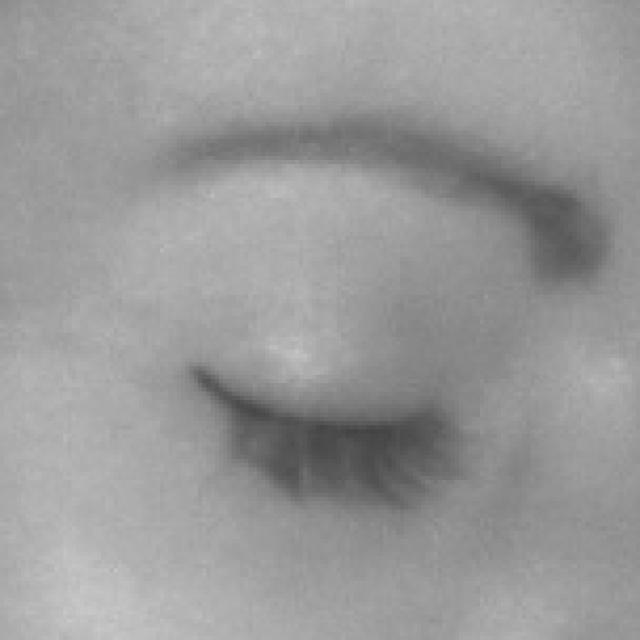close: (55, 77, 640, 590)
